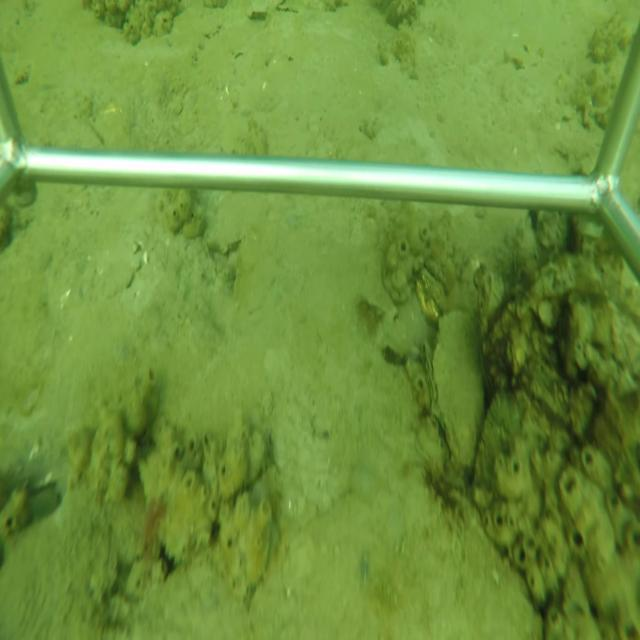Oyster-Closed: (433, 310, 488, 473), (420, 342, 436, 408)
Oyster-Indeterminate: (205, 192, 270, 259)
